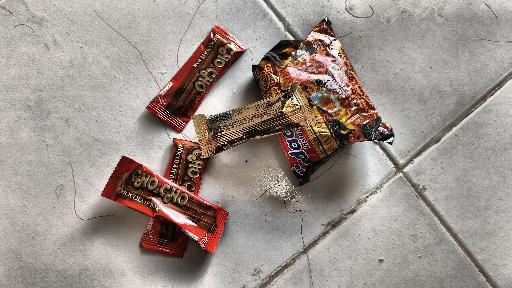chocho: (103, 148, 238, 263), (137, 21, 246, 133)
mie sedap: (240, 27, 396, 187)
top: (181, 87, 307, 159)
